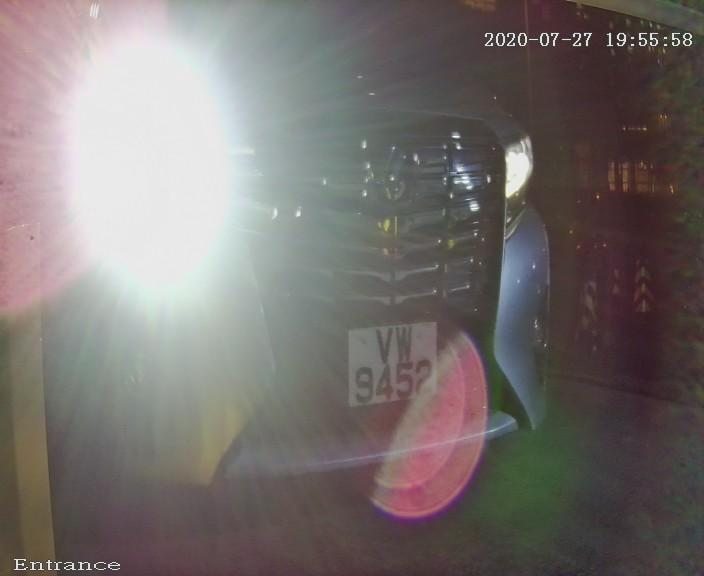privatecar: (7, 1, 544, 553)
